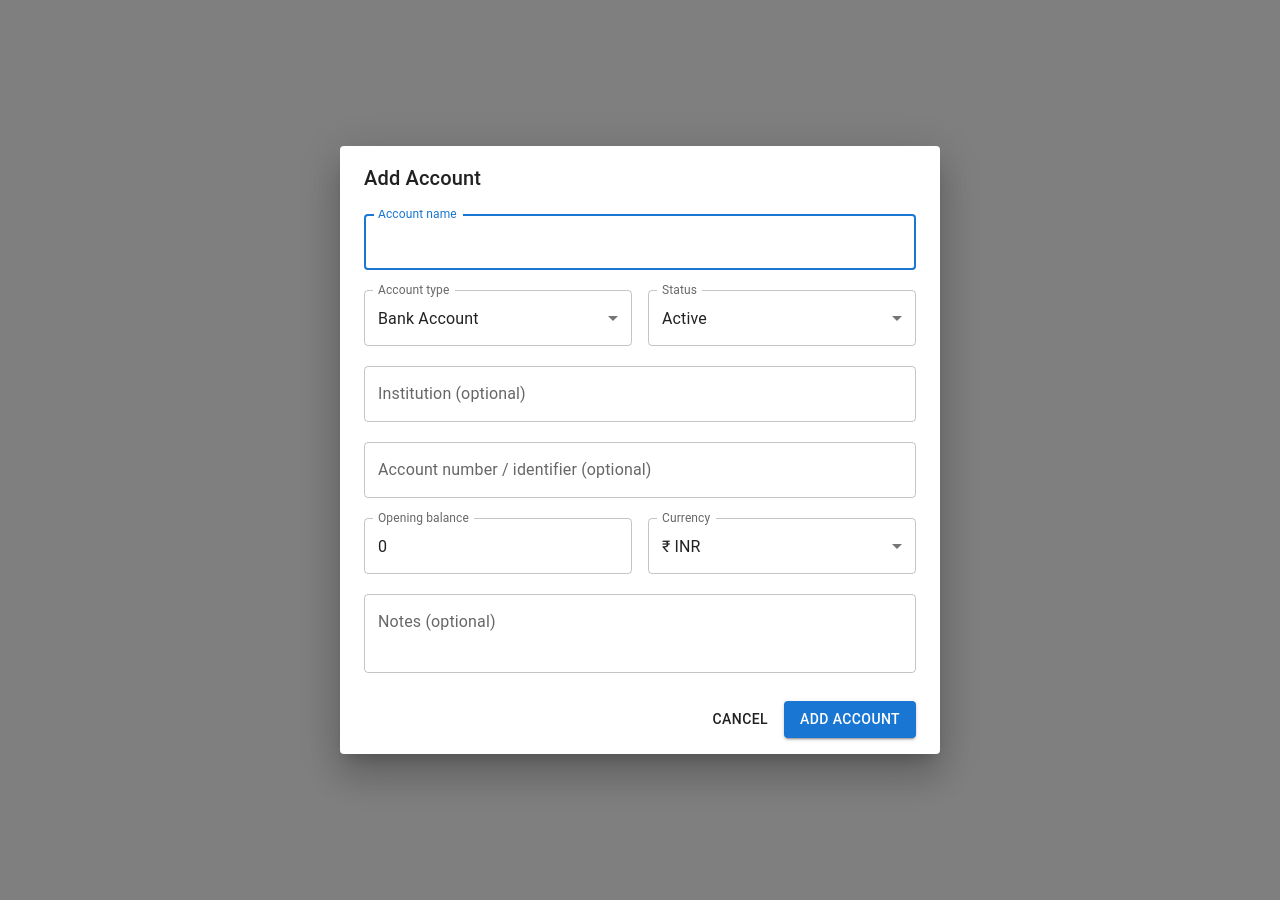
Test: AccountFormDialog › shows credit card fields once the type is set to Credit Card
Press the mouse on the dropdown named "Account type" at (428, 318), box [378, 309, 479, 328]
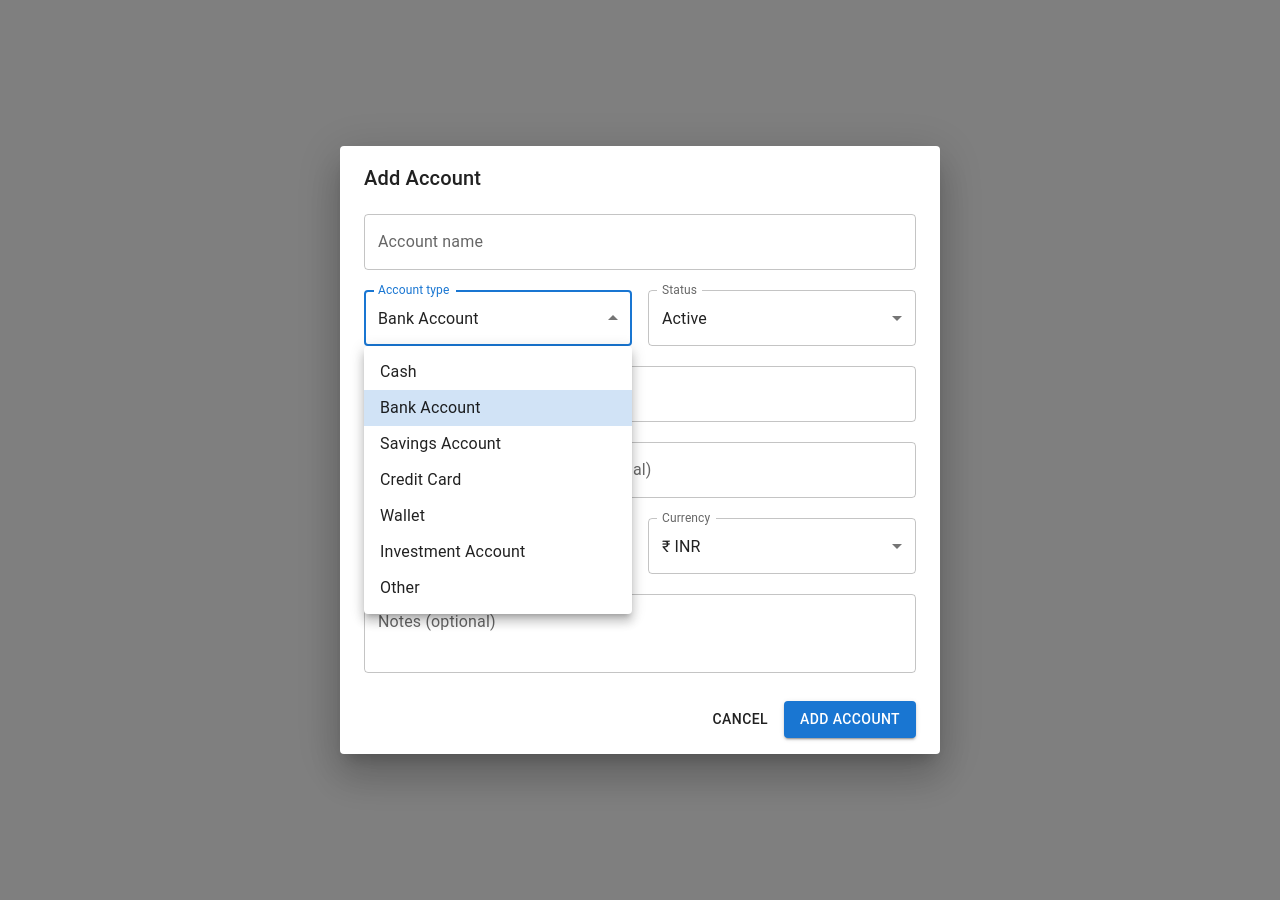
Click the option "Credit Card" at (421, 480), box [380, 470, 461, 489]
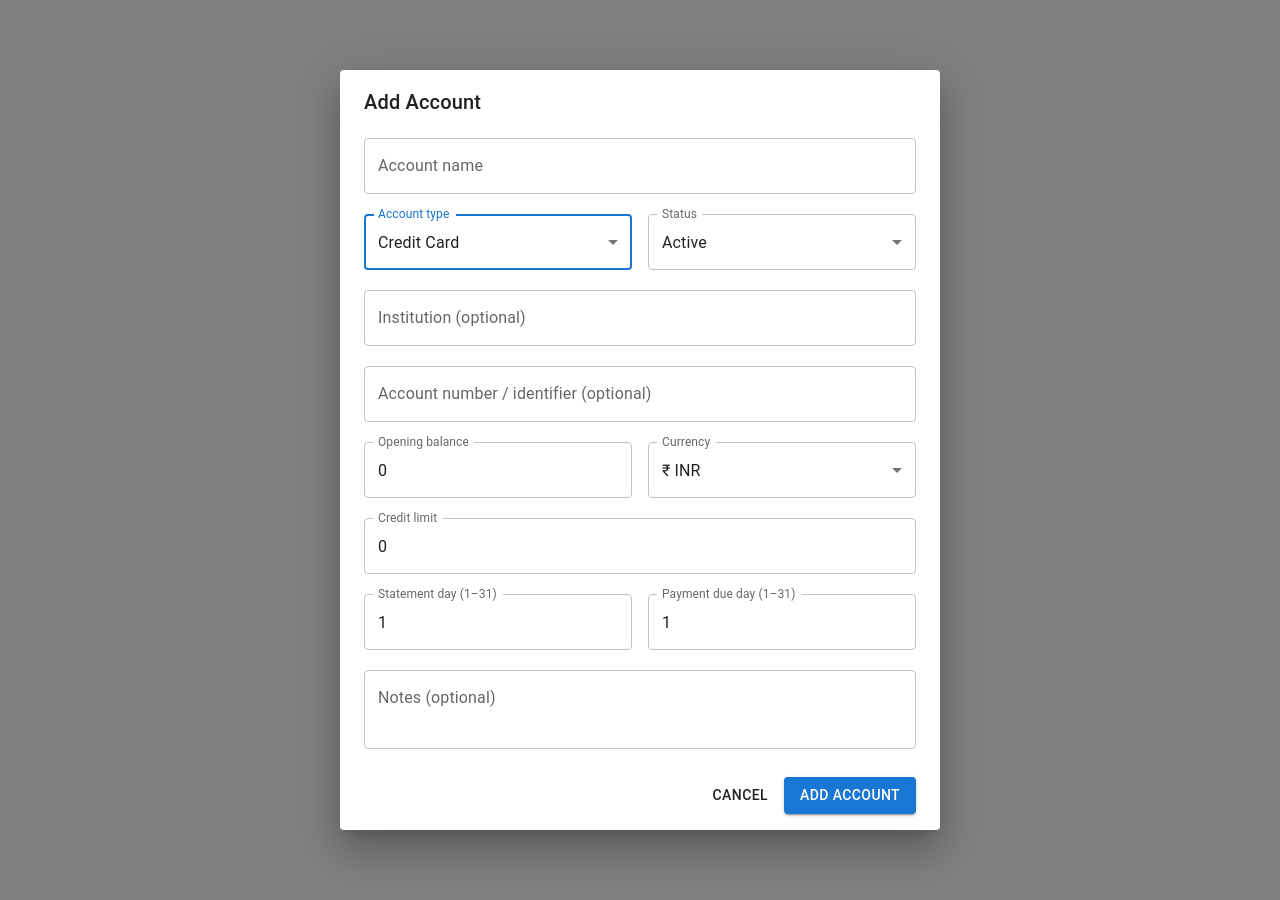
Now the number field labelled "Credit limit" is shown, box [364, 518, 916, 574]
Now the number field labelled "Statement day (1–31)" is shown, box [364, 594, 632, 650]
Now the number field labelled "Payment due day (1–31)" is shown, box [648, 594, 916, 650]
